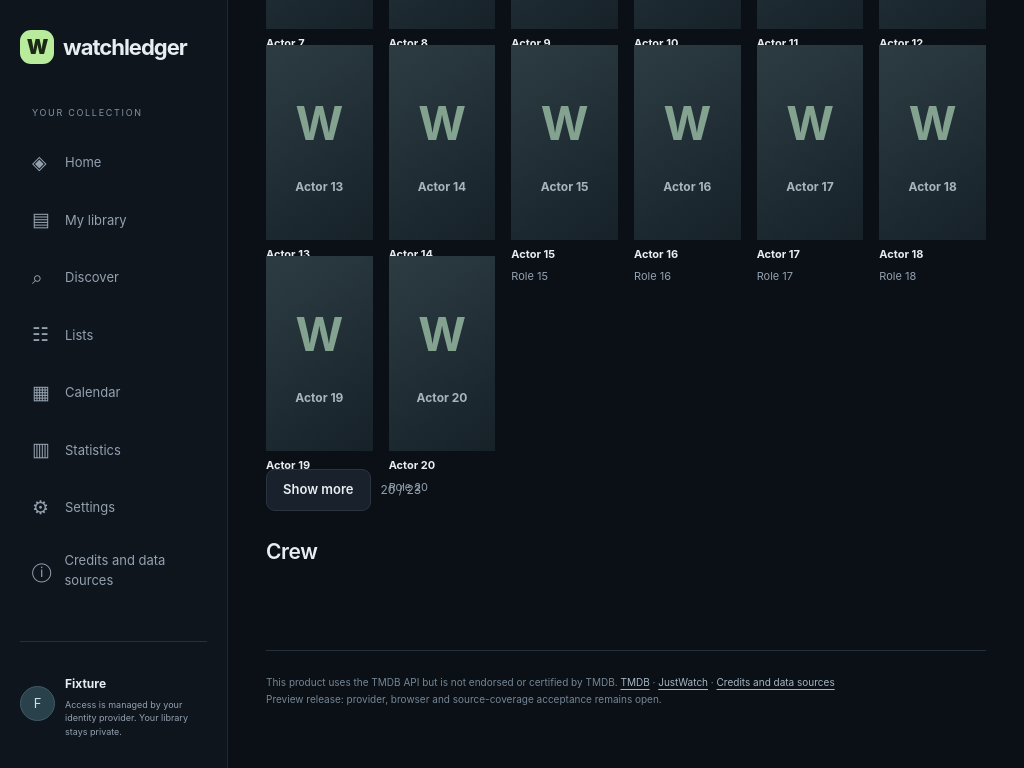
Test: detail cast browsing reaches all supplied roles instead of silently truncating at twenty
The width and height of the screenshot is (1024, 768).
(page scrolled)
Expected: the link "Actor 23" is not shown
Click the button "Show more": {"x": 318, "y": 490} [266,469,370,511]
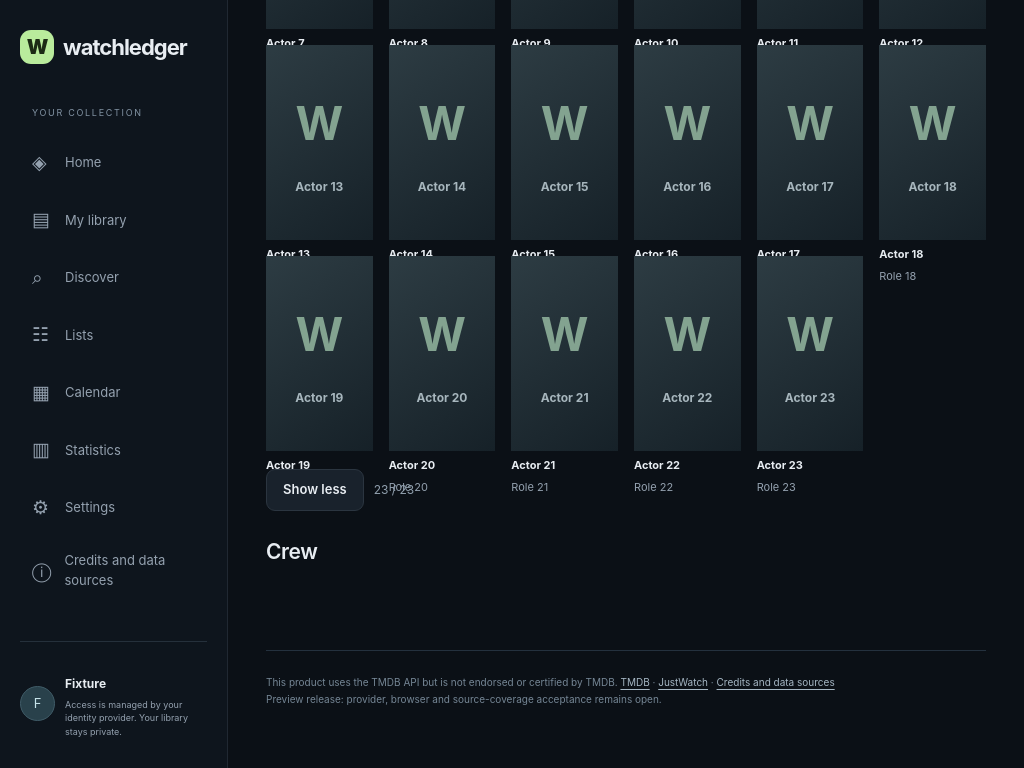
Click the button "Show less": {"x": 315, "y": 490} [266,469,364,511]
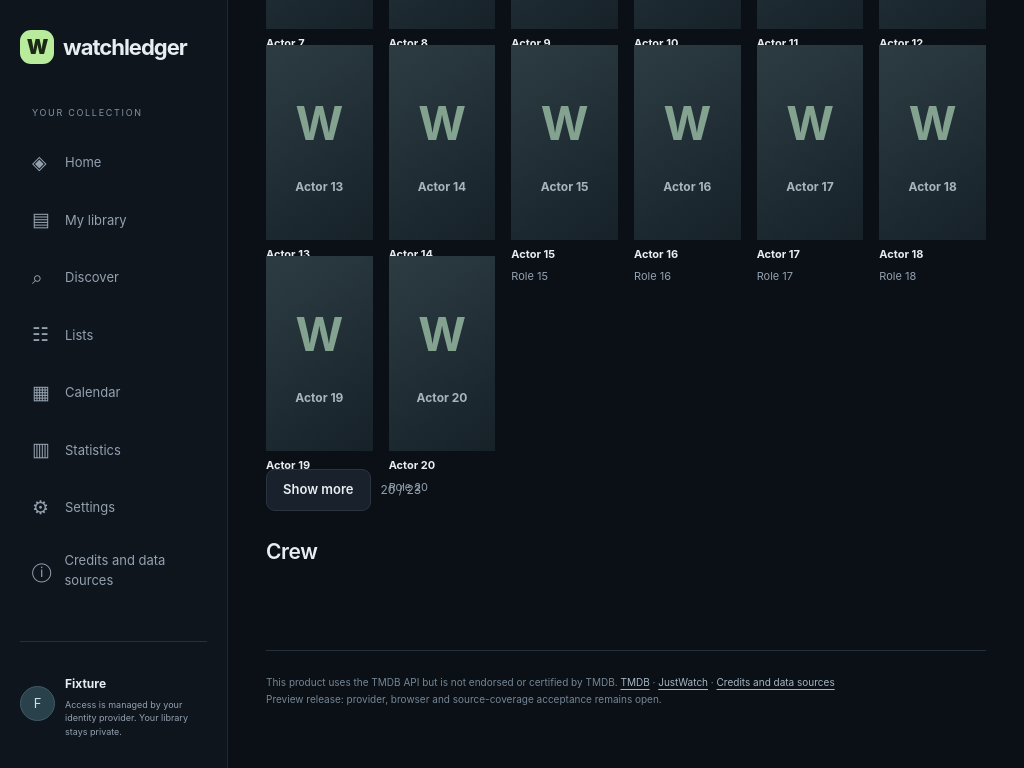
Result: the link "Actor 23" is gone
